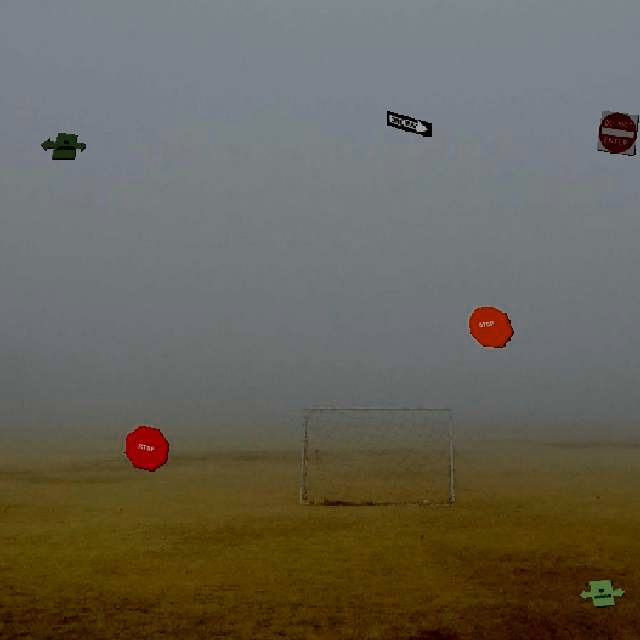DO_NOT_ENTER: (595, 109, 638, 155)
GO_AROUND: (578, 578, 624, 606), (39, 131, 85, 158)
ONE_WAY_ right: (385, 109, 431, 136)
STOP: (123, 424, 168, 470), (467, 304, 513, 347)
